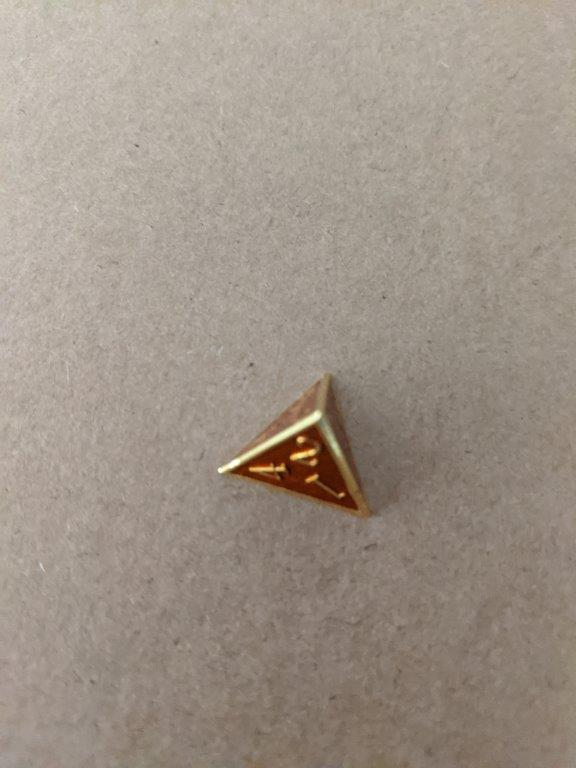d4-2: (214, 366, 375, 525)
